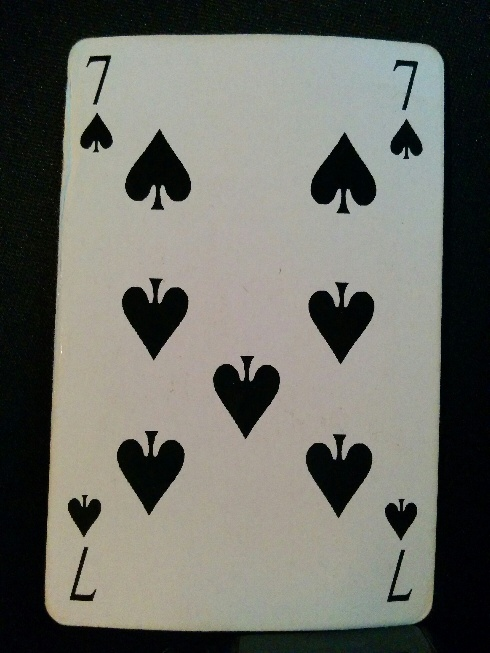S7: (64, 490, 108, 608), (380, 492, 417, 605), (388, 55, 424, 163), (81, 51, 117, 156)
